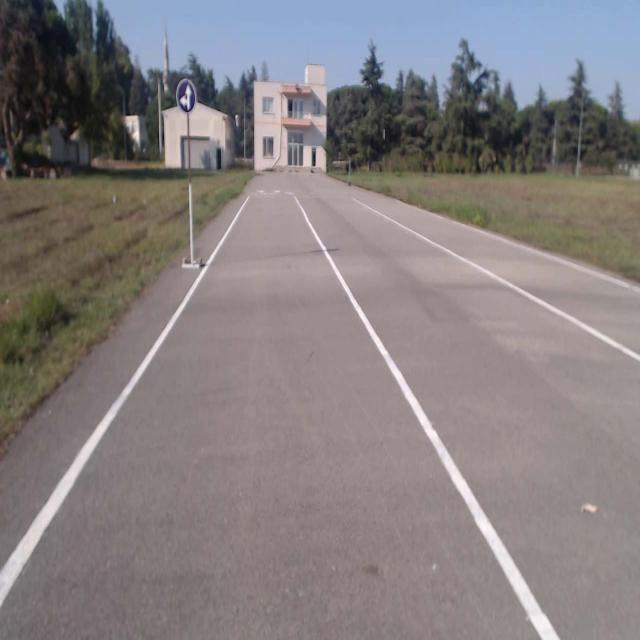ilerisol: (177, 79, 196, 112)
